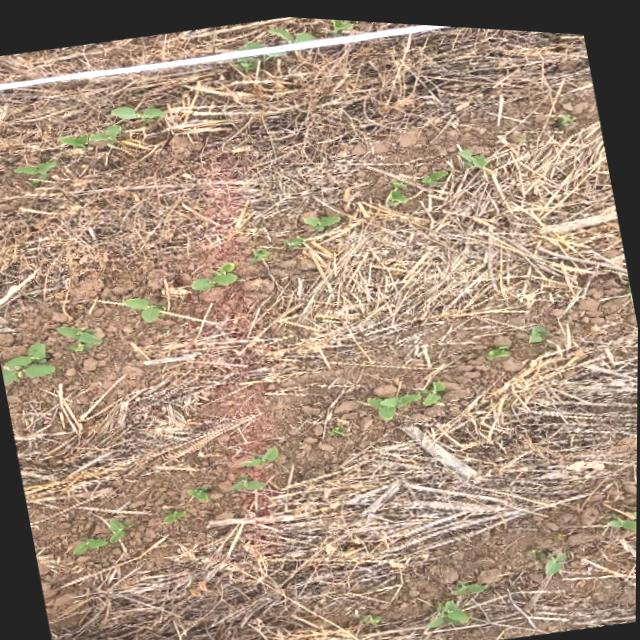soy_plant: (368, 376, 446, 414), (1, 344, 54, 384), (74, 518, 126, 554), (59, 122, 121, 149), (188, 260, 238, 290), (428, 595, 470, 623), (57, 325, 102, 351), (121, 295, 163, 321), (111, 103, 167, 121), (16, 161, 55, 184), (239, 443, 278, 464), (608, 502, 637, 524), (305, 213, 341, 227), (230, 475, 267, 488), (386, 175, 405, 200), (452, 576, 486, 589), (545, 547, 566, 567), (187, 482, 210, 499), (421, 165, 447, 180), (463, 145, 486, 161), (486, 337, 509, 353), (528, 319, 548, 337), (164, 510, 187, 522), (284, 233, 304, 245), (253, 245, 269, 258)
